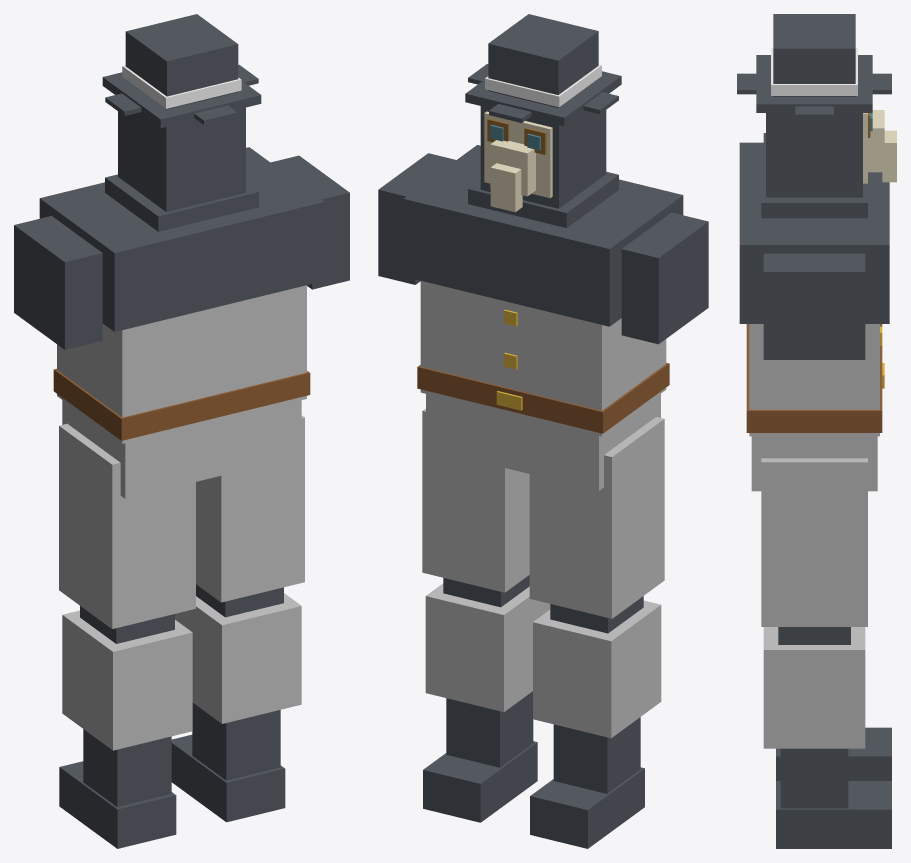
File: PLAGUEDOC.gltf
3 views of the same model, side by side, from view 1: azimuth 30°, elevation 25°; view 2: azimuth 150°, elevation 25°; view 3: azimuth 270°, elevation 25° (orthographic).
Parts seen in each view (by area): view 1: PLAGUEDOC; view 2: PLAGUEDOC; view 3: PLAGUEDOC.
Part boxes in pixels (box(x1,y1,x2,y2)): PLAGUEDOC: box(14, 14, 349, 848); PLAGUEDOC: box(378, 14, 708, 848); PLAGUEDOC: box(737, 14, 896, 848).
Bounding box in the file's own units: 0.68 × 1.77 × 0.33.
